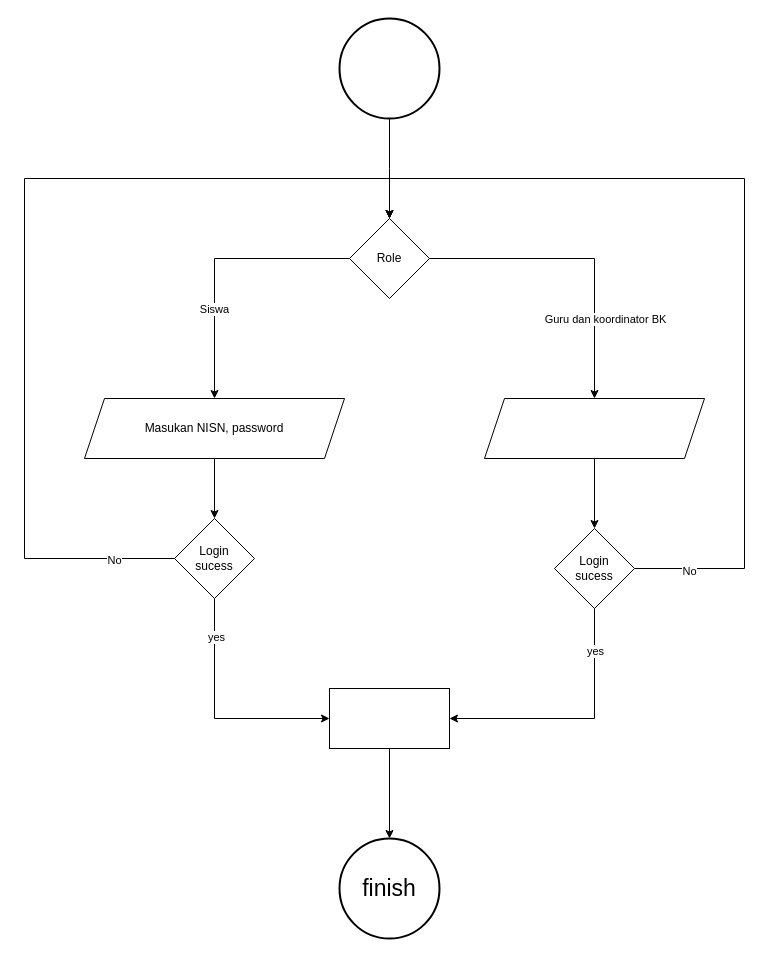
Some shapes in this 770 by 956 pixel diagram are drawn without their labels. Here are the shapes that lost their labels. From the top down, the centre of each, then its label:
At (x=389, y=68): "start".
At (x=594, y=428): "Masukan Username, Password".
At (x=389, y=718): "Simpan Data di cookie".
